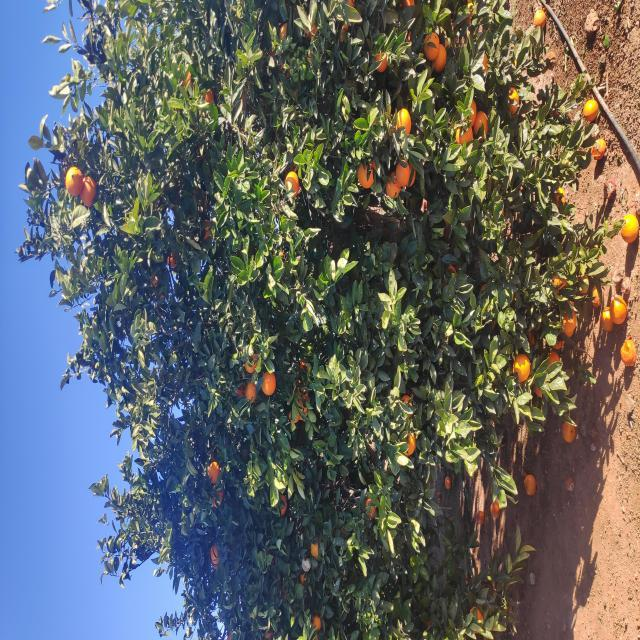Jeruk Sudah Matang: (444, 66, 474, 83), (452, 358, 480, 376), (258, 512, 286, 530), (434, 80, 464, 96), (500, 473, 530, 488), (567, 432, 596, 447), (244, 260, 270, 276), (503, 396, 532, 410), (494, 456, 516, 474), (580, 424, 606, 439), (454, 396, 481, 410), (442, 386, 468, 400), (309, 562, 332, 577), (184, 402, 208, 416), (6, 470, 34, 482), (442, 286, 469, 298), (526, 507, 553, 519), (198, 562, 218, 578), (222, 400, 245, 413), (568, 375, 588, 388), (514, 466, 540, 476), (272, 545, 289, 560), (268, 244, 286, 258), (145, 524, 166, 536), (156, 208, 178, 219), (238, 246, 259, 256), (221, 298, 242, 308), (453, 408, 479, 416), (124, 366, 142, 377), (602, 303, 616, 317), (216, 288, 232, 300), (76, 210, 95, 220), (551, 182, 569, 192), (8, 312, 26, 322), (122, 490, 140, 500), (134, 212, 150, 223), (436, 555, 452, 566), (353, 553, 363, 567), (291, 554, 302, 566), (114, 476, 130, 484), (536, 204, 550, 213), (401, 204, 422, 210), (125, 280, 146, 286), (600, 280, 618, 287), (567, 482, 588, 488), (372, 168, 387, 176), (84, 310, 98, 318), (150, 444, 163, 452), (302, 564, 310, 574), (56, 300, 67, 306)
